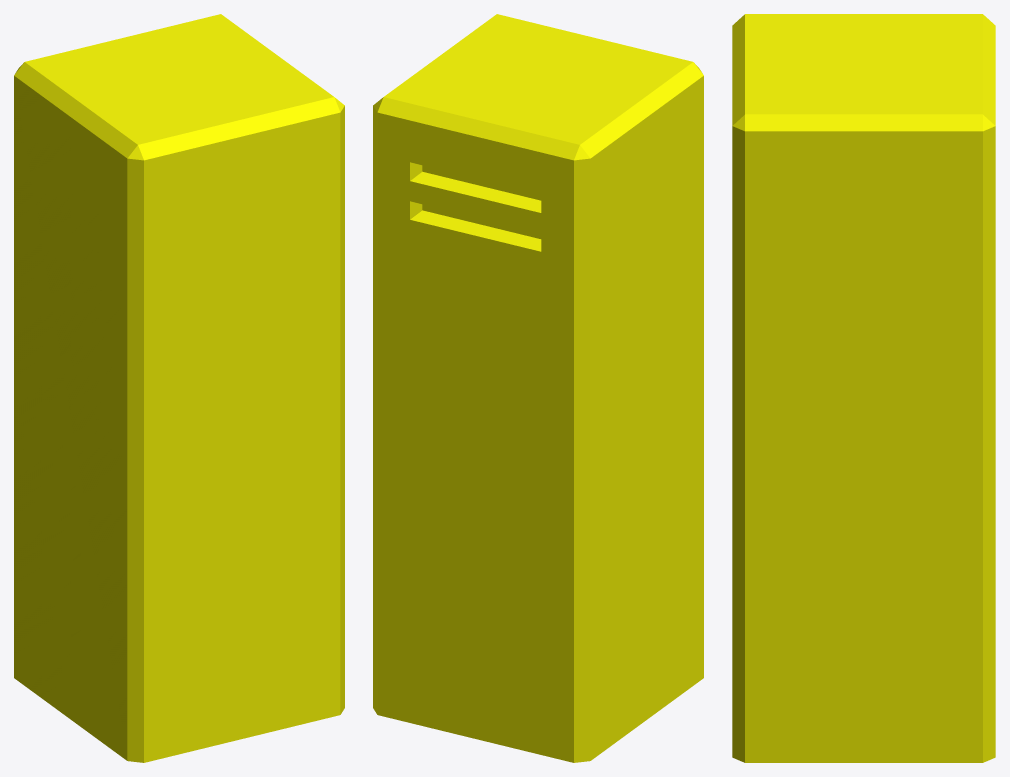
The picture shows the model from 3 angles, left to right: view 1: azimuth 30°, elevation 25°; view 2: azimuth 150°, elevation 25°; view 3: azimuth 270°, elevation 25°; orthographic projection. The views are drawn at different scales.
Parts seen in each view (by area): view 1: ambry; view 2: ambry; view 3: ambry.
Boxes of the visible parts, bbox=[...] form: ambry: bbox=[14, 14, 344, 762]; ambry: bbox=[373, 14, 703, 762]; ambry: bbox=[732, 14, 995, 762].
Size of the model in its own units: 0.00734 by 0.0198 by 0.00734.
Materials: 1 (1 with a texture image).
